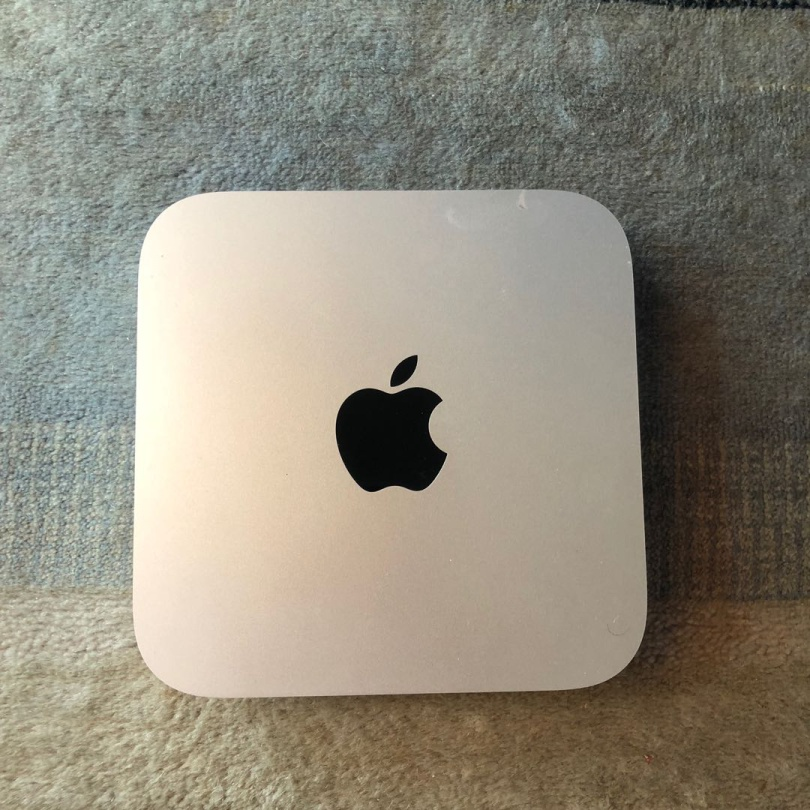apple: (330, 337, 494, 531)
